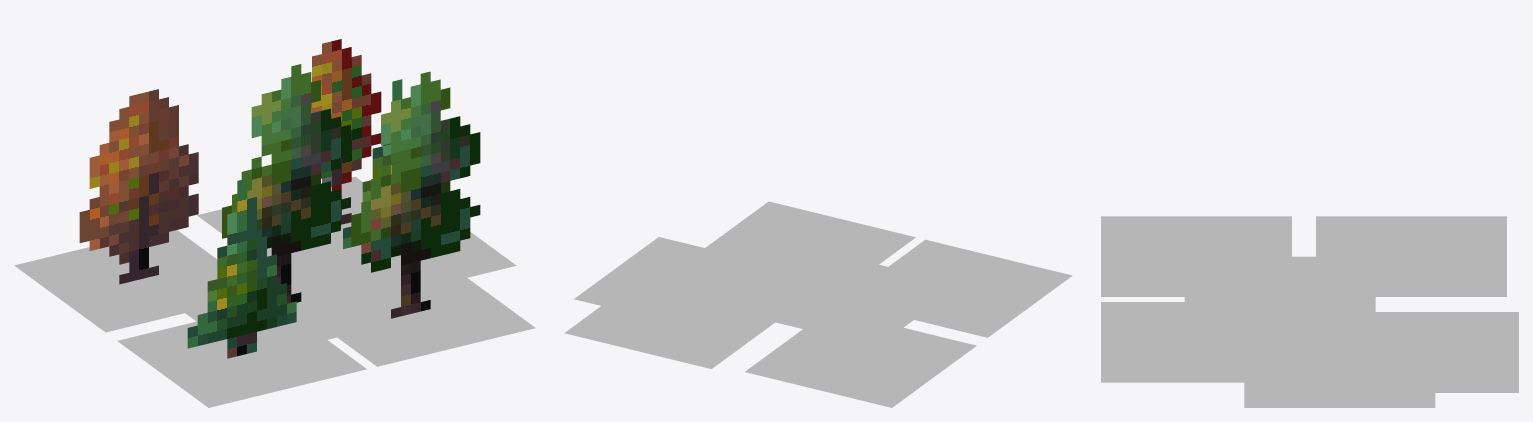
Rendered from tree_bill.gltf.
The picture shows the model from 3 angles, left to right: view 1: azimuth 30°, elevation 25°; view 2: azimuth 150°, elevation 25°; view 3: azimuth 270°, elevation 25°; orthographic projection. The views are drawn at different scales.
Visible parts, largest first — view 1: plane (×7); view 2: plane; view 3: plane.
Part boxes in pixels (<box>): plane (×7): <box>14,39,535,407</box>; plane: <box>564,201,1072,407</box>; plane: <box>1101,216,1518,407</box>.
Size of the model in its own units: 2.38 by 1.44 by 2.19.
